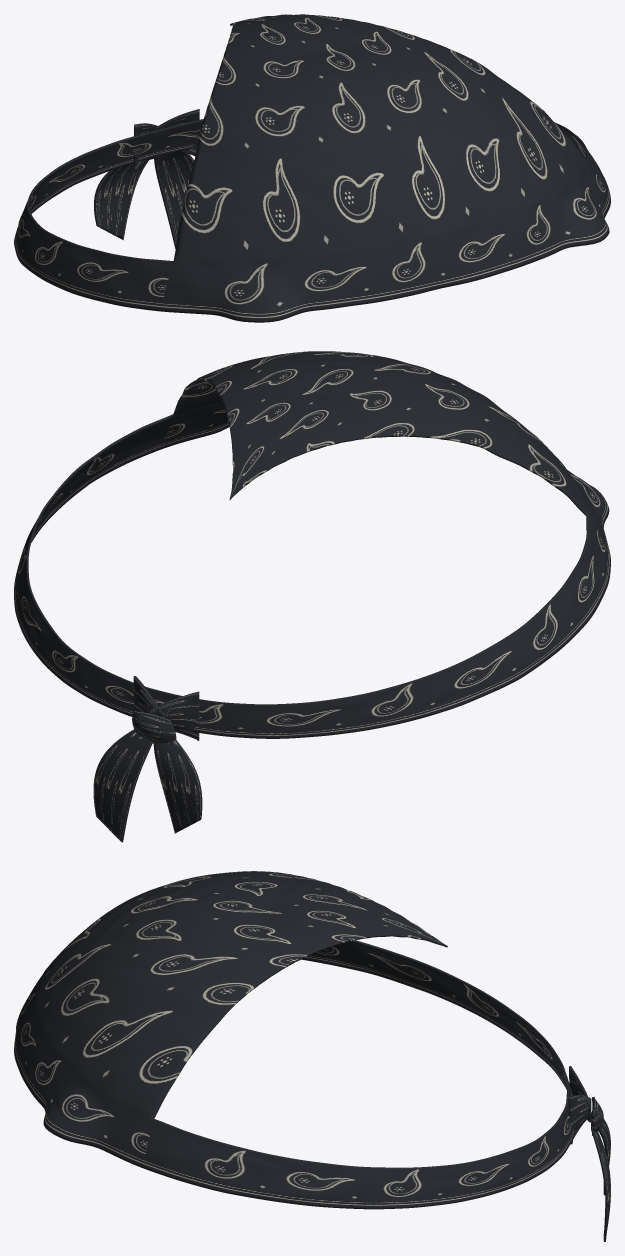
File: Feminine-space-buns-bandana.glb
3 renders of one model, top to bottom at view 1: azimuth 30°, elevation 25°; view 2: azimuth 150°, elevation 25°; view 3: azimuth 270°, elevation 25°, orthographic. The views are drawn at different scales.
Parts seen in each view (by area): view 1: Bandana / continuous triangular scarf, Bandana / hemmed tail -1, Bandana / hemmed tail 1, Bandana / gathered fold 1; view 2: Bandana / continuous triangular scarf, Bandana / hemmed tail 1, Bandana / hemmed tail -1, Bandana / gathered fold -1, Bandana / rounded knot fold; view 3: Bandana / continuous triangular scarf, Bandana / hemmed tail 1, Bandana / gathered fold 1.
Boxes of the visible parts, x1,y1,x2,y2 form: Bandana / continuous triangular scarf: (14,14,610,322); Bandana / hemmed tail -1: (94,160,148,240); Bandana / hemmed tail 1: (154,151,194,248); Bandana / gathered fold 1: (158,109,199,155); Bandana / continuous triangular scarf: (14,351,610,738); Bandana / hemmed tail 1: (93,729,152,842); Bandana / hemmed tail -1: (153,740,202,833); Bandana / gathered fold -1: (148,691,199,740); Bandana / rounded knot fold: (132,710,176,743); Bandana / continuous triangular scarf: (14,871,574,1209); Bandana / hemmed tail 1: (591,1120,610,1241); Bandana / gathered fold 1: (568,1095,591,1144).
Size of the model in its own units: 0.7641 by 0.4689 by 0.7817.
1 material, 1 textured.
